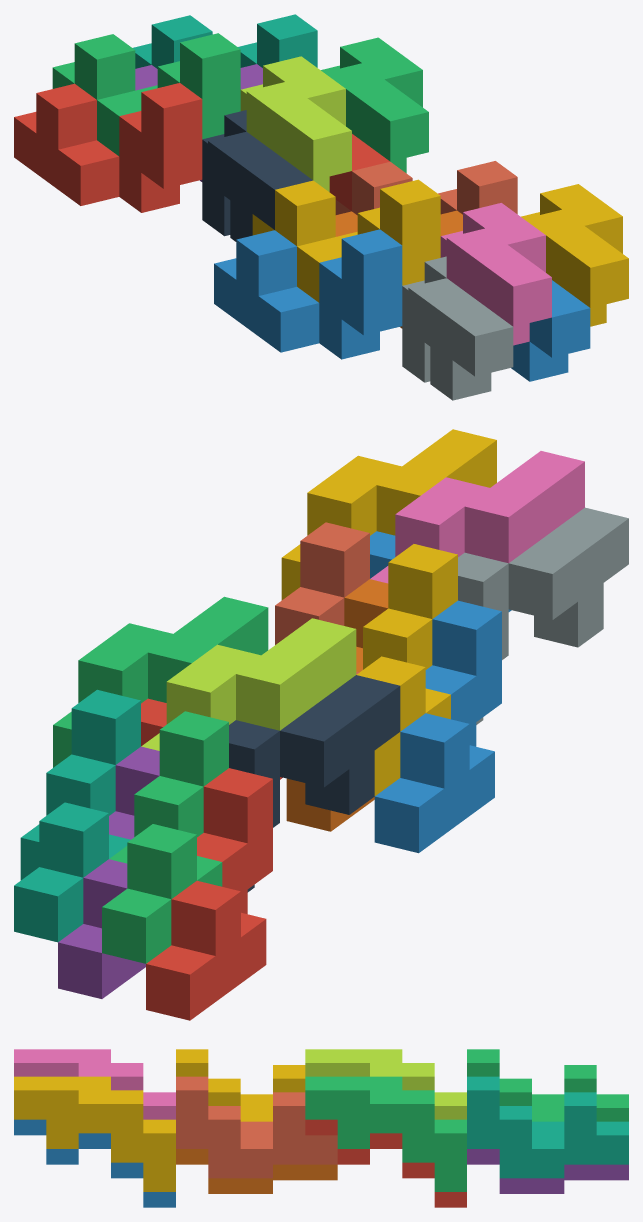
Rendered from tiling.obj.
3 views of the same model, one above another, from view 1: azimuth 30°, elevation 25°; view 2: azimuth 150°, elevation 25°; view 3: azimuth 270°, elevation 25° (orthographic). The views are drawn at different scales.
Visible parts, largest first — view 1: copy_1_domain_2, copy_1_domain_1, copy_2_domain_2, copy_1_domain_3, copy_1_domain_4, copy_2_domain_4, copy_2_domain_3, copy_2_domain_8, copy_2_domain_7, copy_2_domain_1, copy_1_domain_7, copy_1_domain_8 (+4 smaller); view 2: copy_1_domain_2, copy_1_domain_1, copy_1_domain_7, copy_1_domain_3, copy_2_domain_1, copy_2_domain_2, copy_2_domain_3, copy_2_domain_4, copy_1_domain_4, copy_2_domain_8, copy_2_domain_7, copy_1_domain_5 (+4 smaller); view 3: copy_1_domain_7, copy_2_domain_7, copy_2_domain_8, copy_1_domain_8, copy_1_domain_3, copy_2_domain_3, copy_2_domain_4, copy_1_domain_4, copy_2_domain_5, copy_2_domain_6, copy_1_domain_5, copy_1_domain_6.
Part boxes in pixels (left/top/right/bottom): copy_1_domain_2: left=214, top=229, right=402, bottom=359; copy_1_domain_1: left=14, top=83, right=202, bottom=212; copy_2_domain_2: left=402, top=256, right=513, bottom=400; copy_1_domain_3: left=52, top=33, right=240, bottom=156; copy_1_domain_4: left=252, top=179, right=440, bottom=302; copy_2_domain_4: left=440, top=203, right=551, bottom=345; copy_2_domain_3: left=240, top=56, right=351, bottom=191; copy_2_domain_8: left=521, top=184, right=628, bottom=326; copy_2_domain_7: left=321, top=37, right=428, bottom=173; copy_2_domain_1: left=202, top=110, right=312, bottom=241; copy_1_domain_7: left=133, top=14, right=317, bottom=68; copy_1_domain_8: left=335, top=161, right=517, bottom=215; copy_1_domain_2: left=374, top=600, right=501, bottom=853; copy_1_domain_1: left=146, top=768, right=272, bottom=1020; copy_1_domain_7: left=14, top=689, right=140, bottom=942; copy_1_domain_3: left=102, top=711, right=228, bottom=963; copy_2_domain_1: left=229, top=675, right=400, bottom=892; copy_2_domain_2: left=458, top=507, right=628, bottom=724; copy_2_domain_3: left=141, top=618, right=356, bottom=750; copy_2_domain_4: left=370, top=451, right=584, bottom=583; copy_1_domain_4: left=356, top=544, right=457, bottom=795; copy_2_domain_8: left=281, top=429, right=496, bottom=600; copy_2_domain_7: left=53, top=596, right=268, bottom=767; copy_1_domain_5: left=58, top=746, right=159, bottom=998; copy_1_domain_7: left=467, top=1076, right=628, bottom=1178; copy_2_domain_7: left=305, top=1076, right=466, bottom=1191; copy_2_domain_8: left=14, top=1076, right=175, bottom=1191; copy_1_domain_8: left=176, top=1076, right=337, bottom=1178; copy_1_domain_3: left=467, top=1049, right=628, bottom=1121; copy_2_domain_3: left=305, top=1049, right=466, bottom=1119; copy_2_domain_4: left=14, top=1049, right=175, bottom=1119; copy_1_domain_4: left=176, top=1049, right=305, bottom=1121; copy_2_domain_5: left=305, top=1119, right=466, bottom=1207; copy_2_domain_6: left=14, top=1119, right=175, bottom=1207; copy_1_domain_5: left=467, top=1149, right=628, bottom=1193; copy_1_domain_6: left=176, top=1149, right=337, bottom=1193.
Bounding box in the file's own units: 6 × 4 × 19.
